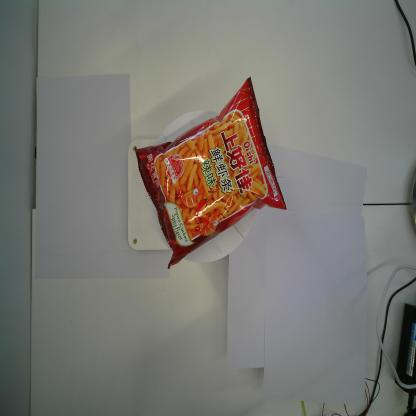Puffed Food: (136, 76, 287, 270)
